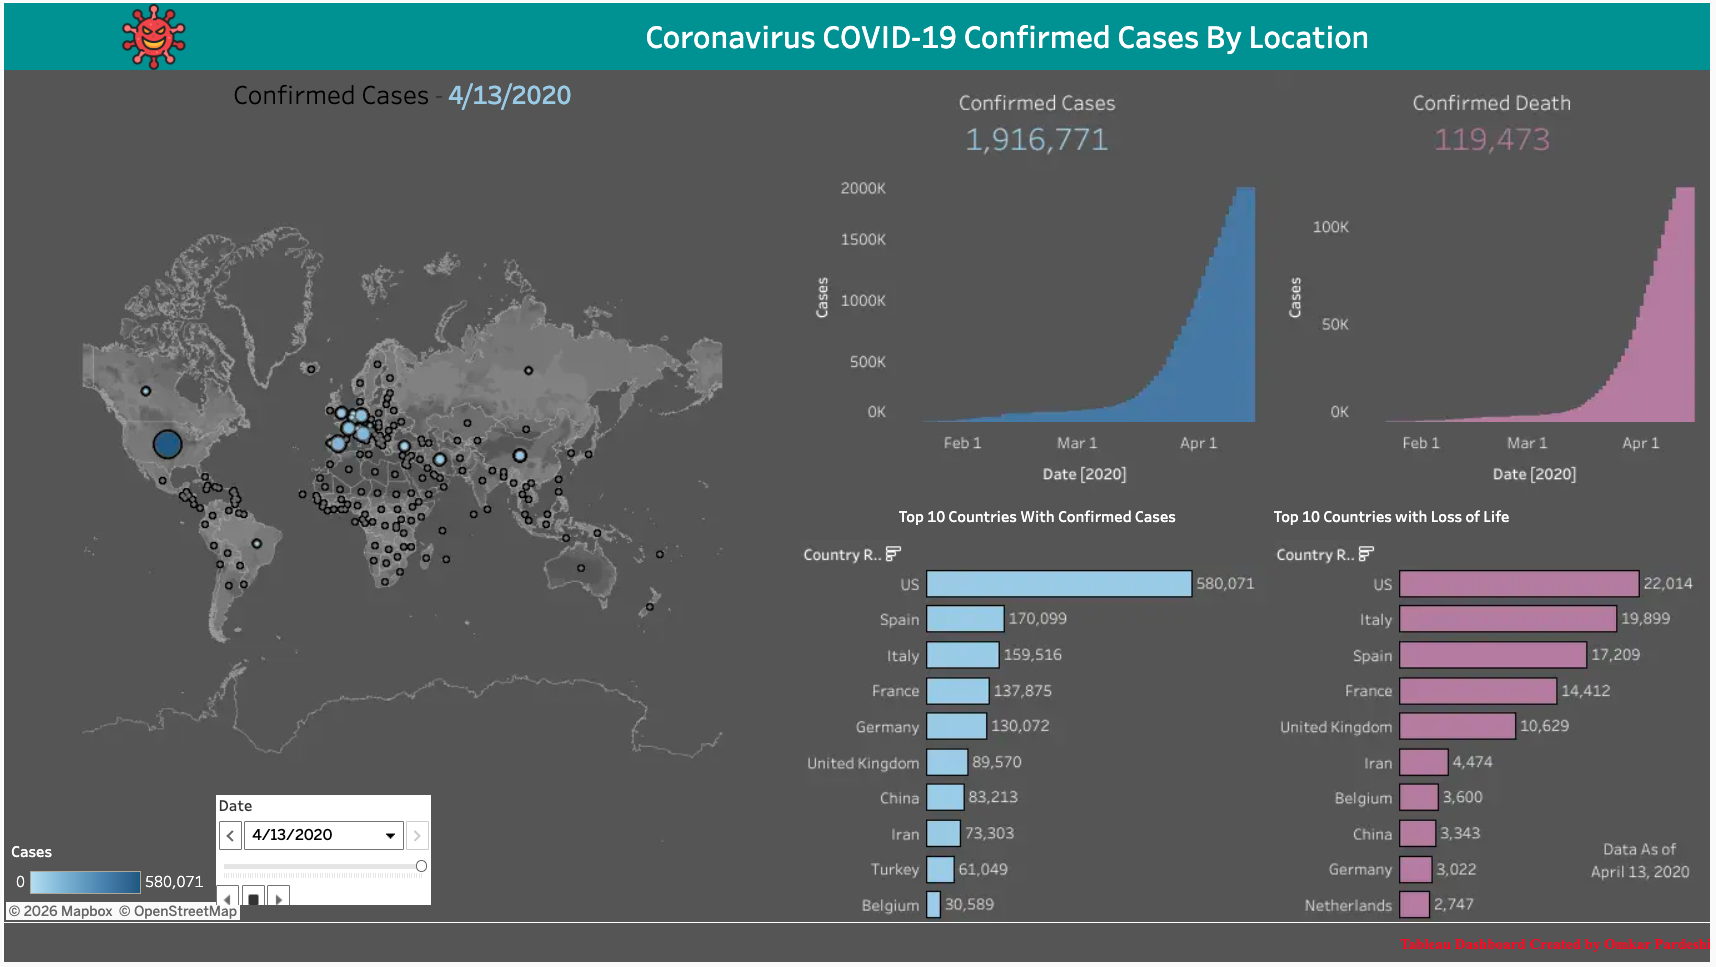

The page's visual inventory and layout, read from the dashboard file:
{"tool":"tableau","page":{"name":"Dashboard 1","canvas":[1366,768],"ordinal":0},"visuals":[{"type":"image","param":"Image/virus_2805175.png","box":[1,1,240,53]},{"type":"text","box":[241,1,1126,53]},{"type":"worksheet","title":"Map (2)","mark":"Automatic","box":[1,54,638,682]},{"type":"worksheet","title":"Confirmed Cases Ban","mark":"Automatic","box":[639,54,378,85]},{"type":"worksheet","title":"Confirmed Death Ban ","mark":"Automatic","box":[1017,54,350,85]},{"type":"worksheet","title":"Confirmed Cases ","mark":"Circle","rows":["Cases","Cases"],"cols":["Date"],"box":[639,139,378,254]},{"type":"worksheet","title":"Confirmed Death","mark":"Circle","rows":["Cases","Cases"],"cols":["Date"],"box":[1017,139,350,254]},{"type":"text","box":[639,393,378,37]},{"type":"text","box":[1017,393,350,37]},{"type":"worksheet","title":"Confirmed Cases Bar","mark":"Automatic","rows":["Country_Region"],"cols":["Cases"],"box":[639,430,378,306]},{"type":"worksheet","title":"Confirmed Death Bar (2)","mark":"Automatic","rows":["Country_Region"],"cols":["Cases"],"box":[1017,430,350,306]},{"type":"currpage","title":"Map (2)","box":[171,634,172,88]},{"type":"worksheet","title":"As of Date","mark":"Automatic","box":[1256,657,110,77]},{"type":"legend","title":"Map (2)","param":"[federated.1qmfo771mgtjtd15n6btw0eyfwlv].[sum:Cases:qk]","box":[7,671,159,49]},{"type":"text","box":[1,736,1366,33]}]}

Visuals, with their boxes in screenshot pixels (x1, y1, x2, y2), scaled from the page's 1366x768 canvas onto the 1716x967 screenshot:
image: box(1, 1, 303, 68)
text: box(303, 1, 1715, 68)
"Map (2)" worksheet: box(1, 68, 803, 927)
"Confirmed Cases Ban" worksheet: box(803, 68, 1278, 175)
"Confirmed Death Ban " worksheet: box(1278, 68, 1715, 175)
"Confirmed Cases " worksheet (Circle marks): box(803, 175, 1278, 495)
"Confirmed Death" worksheet (Circle marks): box(1278, 175, 1715, 495)
text: box(803, 495, 1278, 541)
text: box(1278, 495, 1715, 541)
"Confirmed Cases Bar" worksheet: box(803, 541, 1278, 927)
"Confirmed Death Bar (2)" worksheet: box(1278, 541, 1715, 927)
"Map (2)" currpage: box(215, 798, 431, 909)
"As of Date" worksheet: box(1578, 827, 1715, 924)
"Map (2)" legend: box(9, 845, 209, 907)
text: box(1, 927, 1715, 966)
